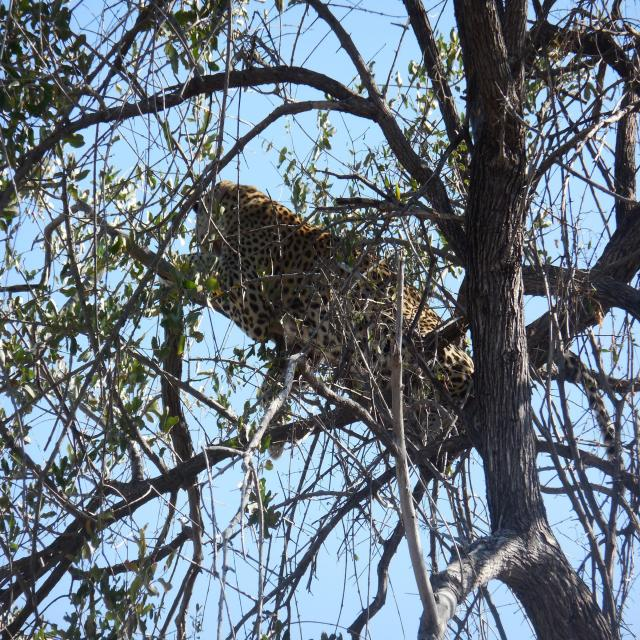Leopard: (178, 166, 542, 480)
